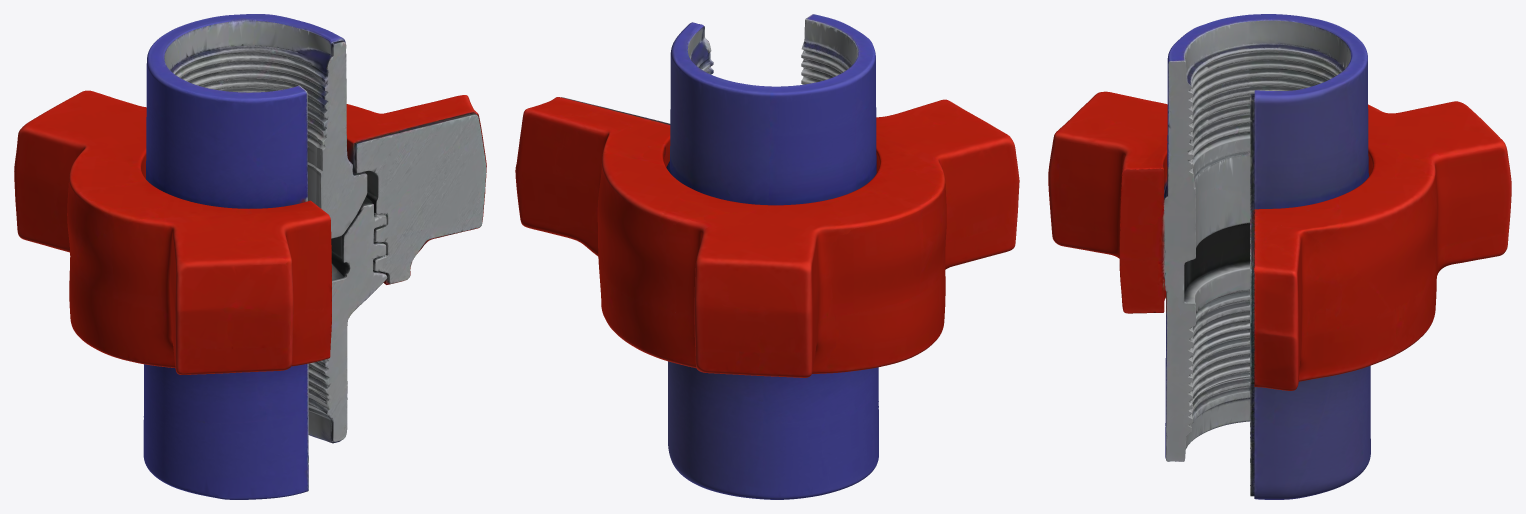
The model's file is UnionDeGolpeFigura1002.glb.
The picture shows the model from 3 angles, left to right: view 1: azimuth 30°, elevation 25°; view 2: azimuth 150°, elevation 25°; view 3: azimuth 270°, elevation 25°; orthographic projection.
Parts seen in each view (by area): view 1: tripo_node_479cca82-5d0b-44b8-884f-aee87463cf30; view 2: tripo_node_479cca82-5d0b-44b8-884f-aee87463cf30; view 3: tripo_node_479cca82-5d0b-44b8-884f-aee87463cf30.
Boxes of the visible parts, left/top/right/bottom form: tripo_node_479cca82-5d0b-44b8-884f-aee87463cf30: left=14, top=14, right=486, bottom=499; tripo_node_479cca82-5d0b-44b8-884f-aee87463cf30: left=515, top=14, right=1019, bottom=499; tripo_node_479cca82-5d0b-44b8-884f-aee87463cf30: left=1048, top=14, right=1511, bottom=499.
Size of the model in its own units: 0.9801 by 0.9454 by 0.9744.
1 material, 1 textured.
